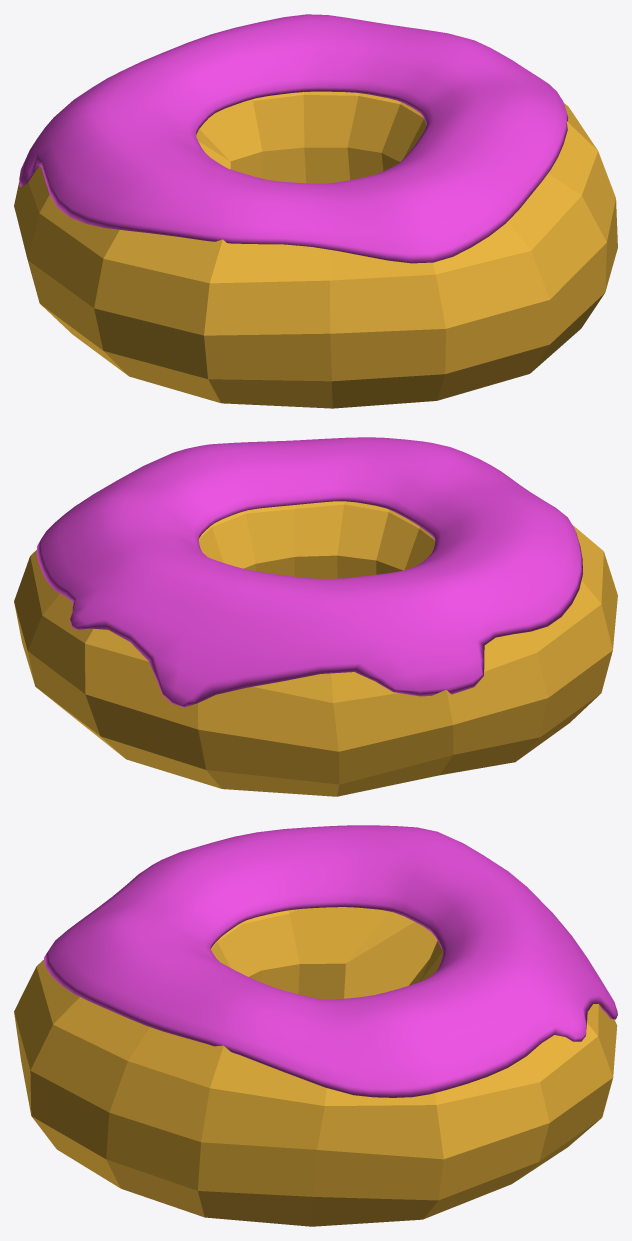
File: Donu2t.fbx
3 views of the same model, one above another, from view 1: azimuth 30°, elevation 25°; view 2: azimuth 150°, elevation 25°; view 3: azimuth 270°, elevation 25° (orthographic). The views are drawn at different scales.
Visible parts, largest first — view 1: Donut, Icing; view 2: Icing, Donut; view 3: Donut, Icing.
Boxes of the visible parts, box(x1,y1,x2,y2) form: Donut: box(14, 91, 617, 408); Icing: box(19, 14, 567, 263); Icing: box(36, 437, 582, 707); Donut: box(14, 501, 617, 796); Donut: box(14, 907, 617, 1226); Icing: box(44, 825, 617, 1097).
Size of the model in its own units: 14.33 by 5.58 by 14.35.
